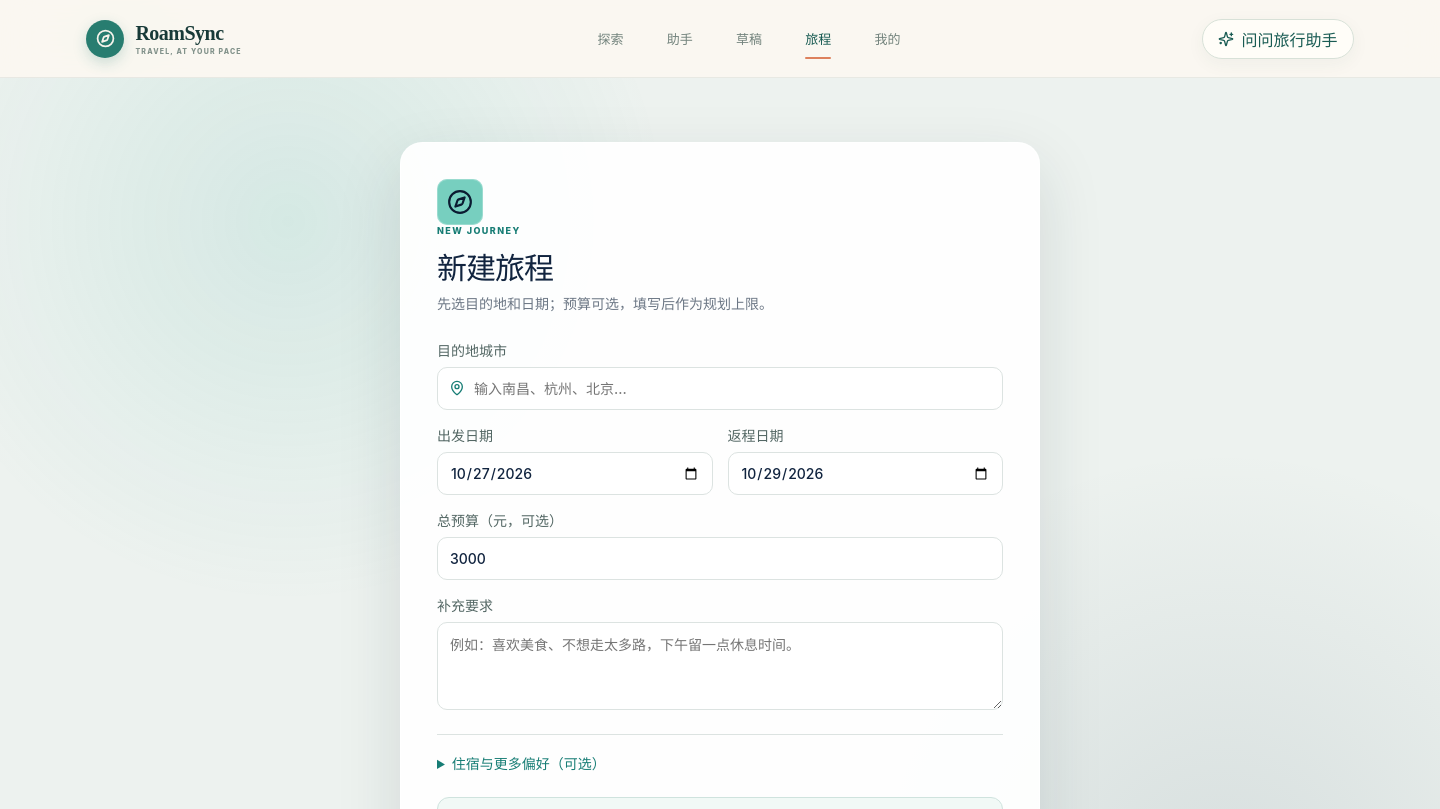
Test case: planner workbench › selects a verified city and accommodation POI during trip setup
The width and height of the screenshot is (1440, 809).
Type "南昌" into the field labelled "目的地城市" at (720, 389), box [437,367,1003,410]
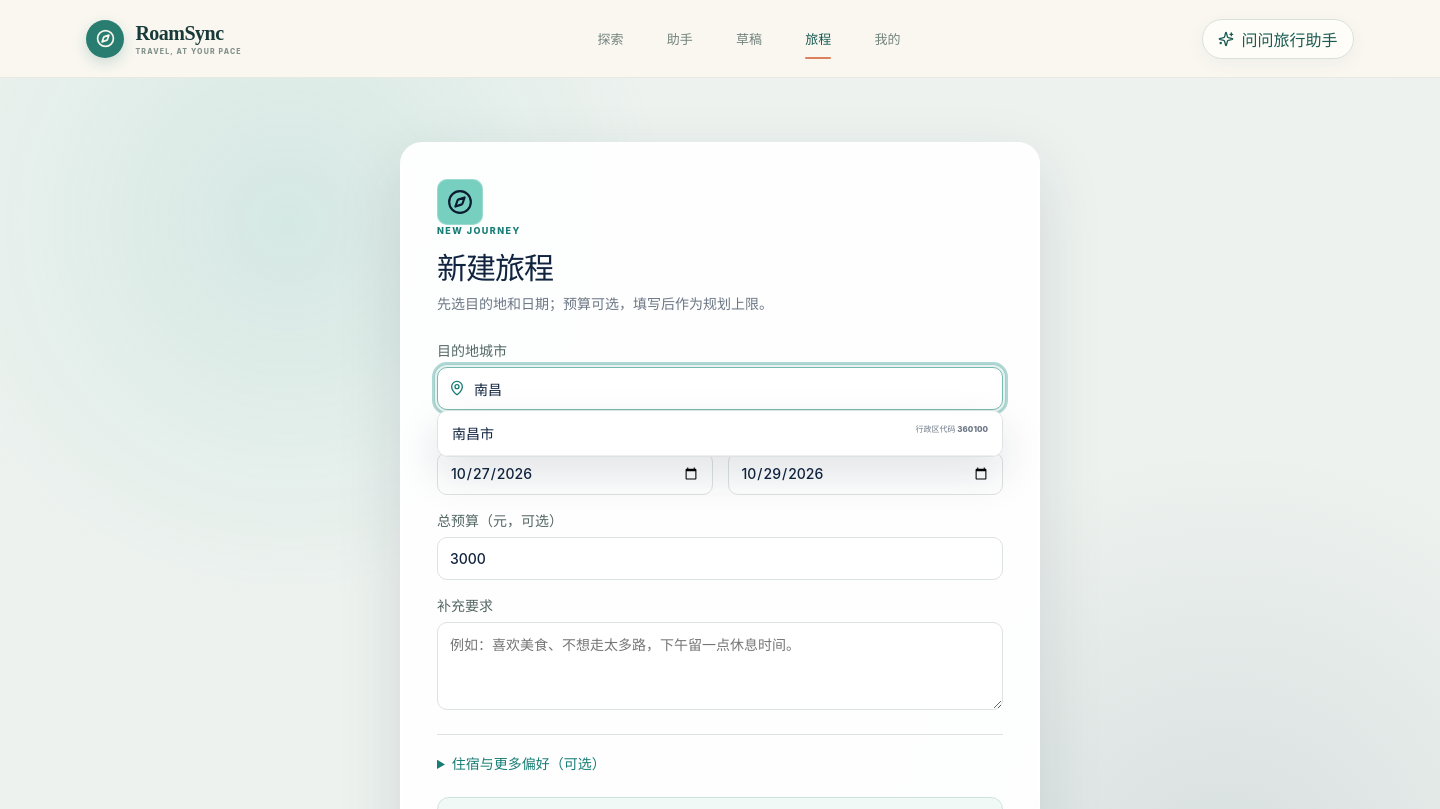
Click the button "南昌市 行政区代码 360100" at (473, 434), box [438,411,1002,456]
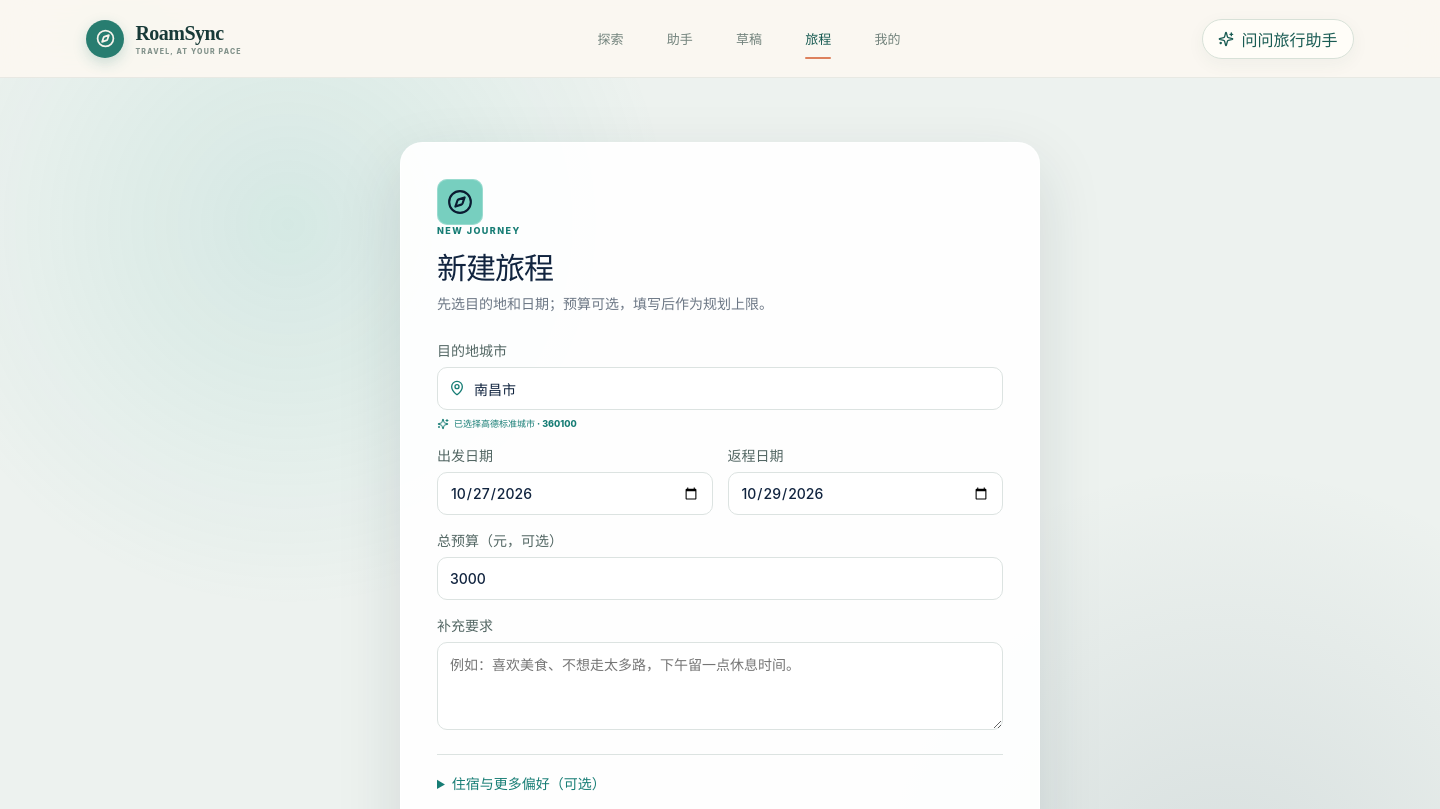
Click the heading "住宿与更多偏好（可选）" at (529, 784), box [452,775,606,792]
(page scrolled)
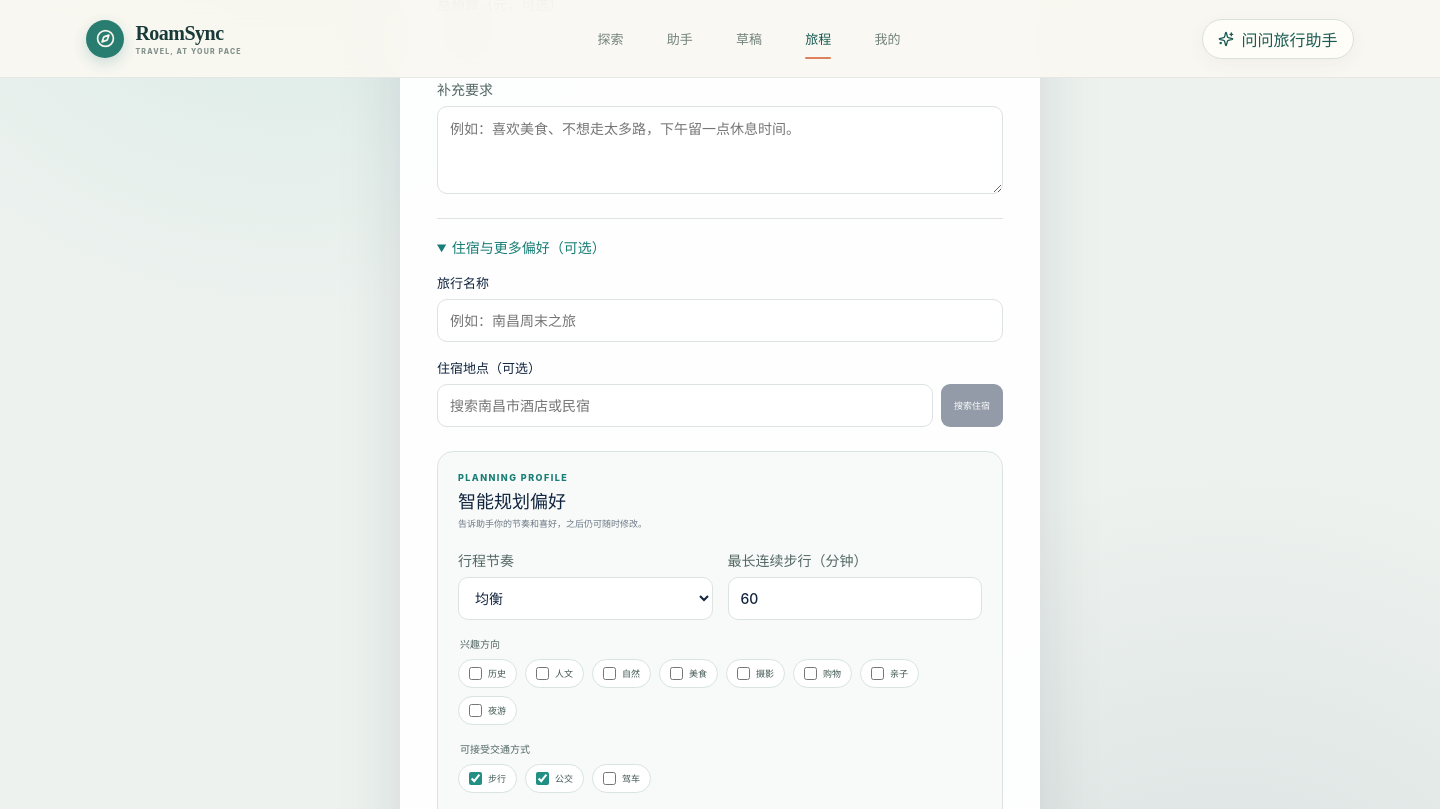
Type "酒店" into the field with placeholder "搜索南昌市酒店或民宿" at (685, 406), box [437,384,933,427]
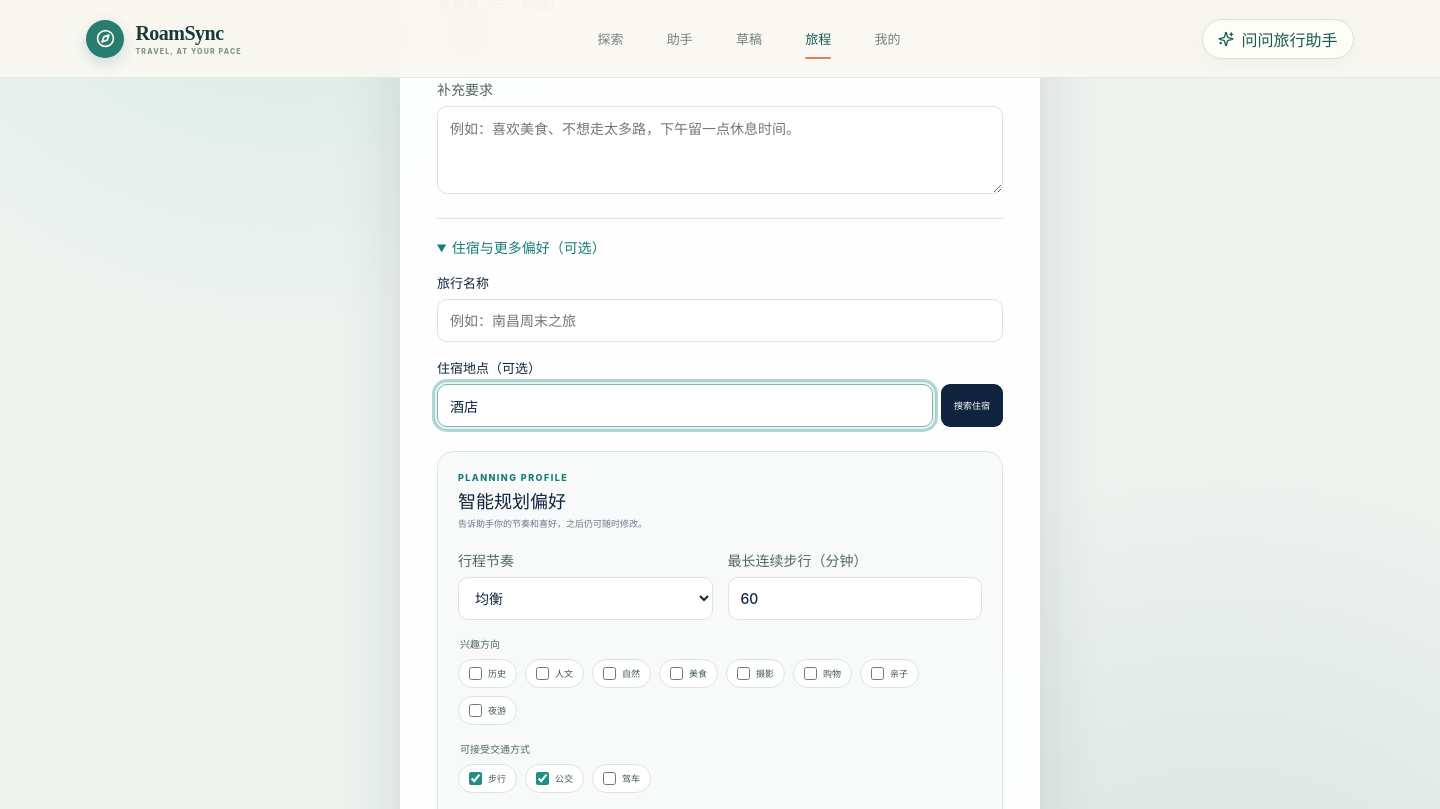
Click the button "搜索住宿" at (972, 406), box [941,384,1003,427]
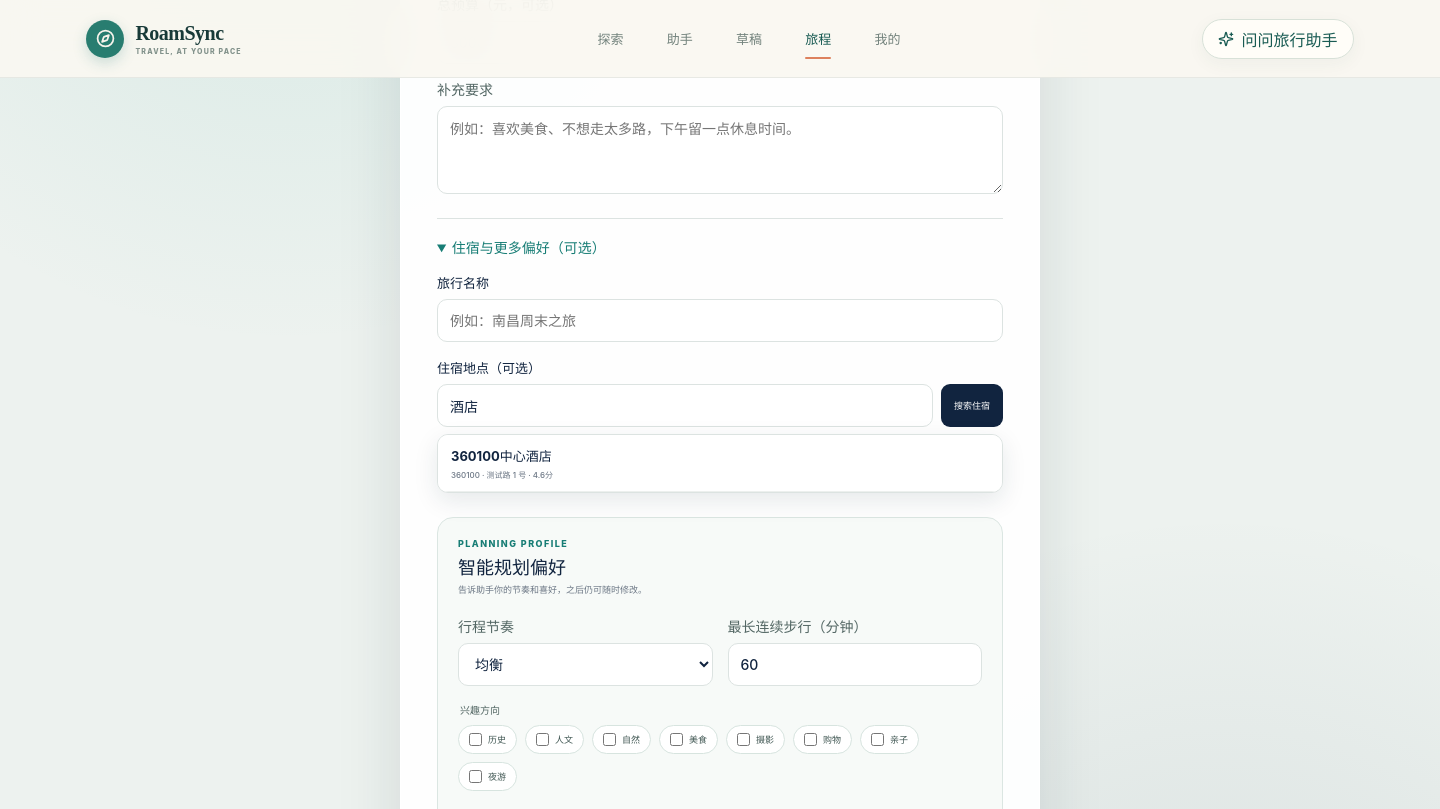
Click the button "360100中心酒店 360100 · 测试路 1 号 · 4.6分" at (501, 456), box [438,435,1002,492]
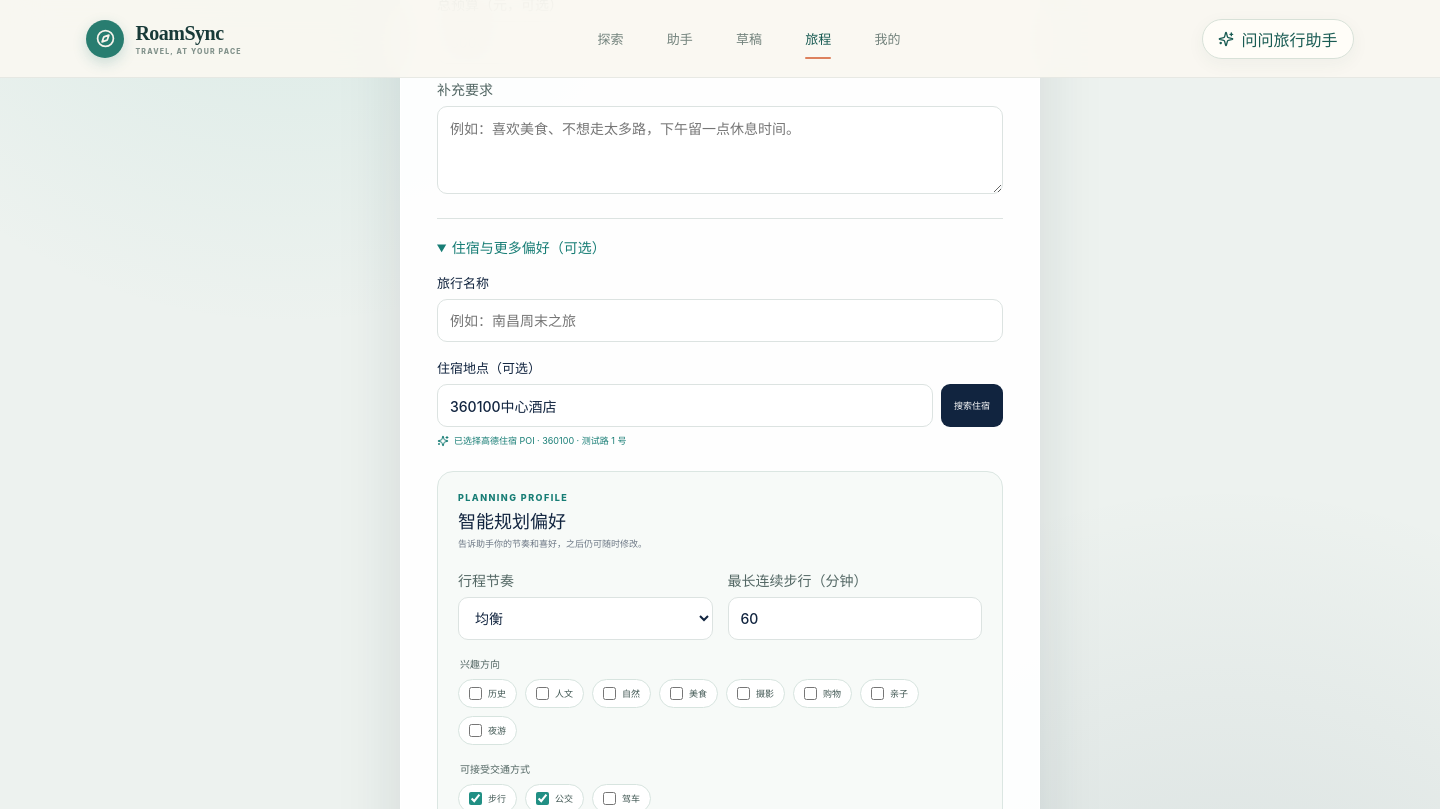
expect the text "已选择高德住宿 POI · 360100 · 测试路 1 号" is shown: met, box [437,435,626,447]
